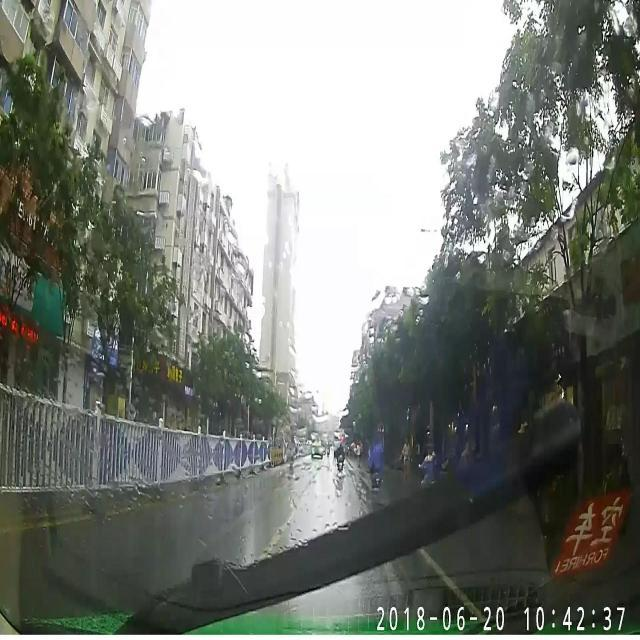car: (308, 436, 326, 460)
